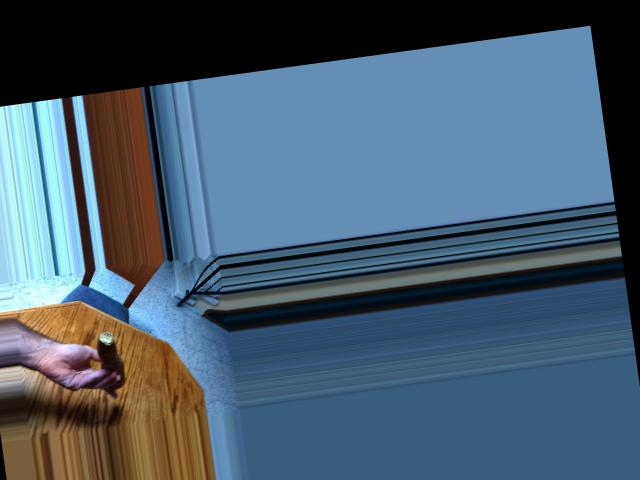sweet_potato: (94, 340, 126, 388)
